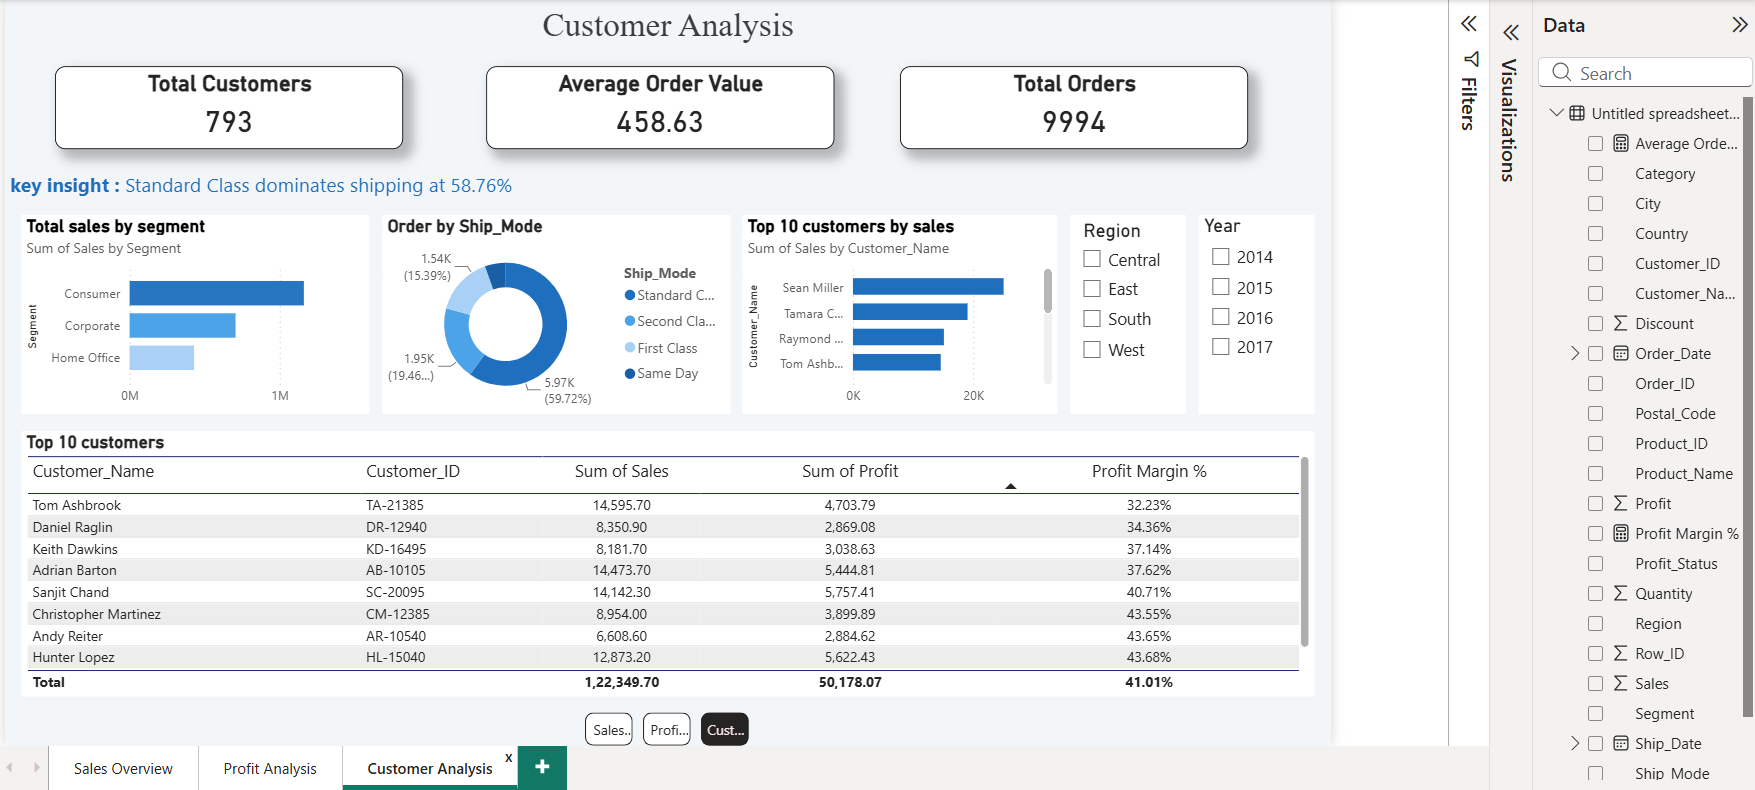

The dashboard page shown, as its layout file describes it:
{"tool":"powerbi","page":{"name":"Page 3","canvas":[1280,720],"ordinal":2},"visuals":[{"type":"slicer","title":"Year","fields":{"Values":["Untitled spreadsheet - Sample -.Order_Date.Variation.Date Hierarchy.Year"]},"box":[1152,208,112,192],"z":0},{"type":"slicer","fields":{"Values":["Untitled spreadsheet - Sample -.Region"]},"box":[1028,208,112,192],"z":1000},{"type":"card","title":"Total Orders","fields":{"Values":["CountNonNull(Untitled spreadsheet - Sample -.Order_ID)"]},"box":[864,64,336,80],"z":2000},{"type":"textbox","box":[0,0,1280,58.8],"z":3000},{"type":"card","title":"Total Customers","fields":{"Values":["Count(Untitled spreadsheet - Sample -.Customer_ID)"]},"box":[48,64,336,80],"z":4000},{"type":"card","title":"Average Order Value","fields":{"Values":["Untitled spreadsheet - Sample -.Average Order Value"]},"box":[464,64,336,80],"z":5000},{"type":"tableEx","title":"Top 10 customers","fields":{"Values":["Untitled spreadsheet - Sample -.Customer_Name","Untitled spreadsheet - Sample -.Customer_ID","Sum(Untitled spreadsheet - Sample -.Sales)","Sum(Untitled spreadsheet - Sample -.Profit)","Untitled spreadsheet - Sample -.Profit Margin %"]},"box":[16,416,1248,256],"z":6000},{"type":"barChart","title":"Total sales by segment","fields":{"Y":["Sum(Untitled spreadsheet - Sample -.Sales)"],"Category":["Untitled spreadsheet - Sample -.Segment"]},"box":[16,208,336,192],"z":7000},{"type":"donutChart","title":" Order by Ship_Mode","fields":{"Category":["Untitled spreadsheet - Sample -.Ship_Mode"],"Y":["CountNonNull(Untitled spreadsheet - Sample -.Order_ID)"]},"box":[364,208,336,192],"z":8000},{"type":"clusteredBarChart","title":"Top 10 customers by sales ","fields":{"Category":["Untitled spreadsheet - Sample -.Customer_Name"],"Y":["Sum(Untitled spreadsheet - Sample -.Sales)"]},"box":[712,208,304,192],"z":9000},{"type":"pageNavigator","box":[560,688,160,32],"z":10000},{"type":"textbox","box":[0,160,512,48],"z":10001}]}

Visuals, with their boxes on the page's 1280x720 design canvas (x1, y1, x2, y2). These are canvas units, not pixel positions in the 1755x790 screenshot, which may show the page scaled, cropped or inside an application window:
"Year" slicer: locate(1152, 208, 1264, 400)
slicer - Untitled spreadsheet - Sample -.Region: locate(1028, 208, 1140, 400)
"Total Orders" card: locate(864, 64, 1200, 144)
textbox: locate(0, 0, 1280, 59)
"Total Customers" card: locate(48, 64, 384, 144)
"Average Order Value" card: locate(464, 64, 800, 144)
"Top 10 customers" tableEx: locate(16, 416, 1264, 672)
"Total sales by segment" barChart: locate(16, 208, 352, 400)
" Order by Ship_Mode" donutChart: locate(364, 208, 700, 400)
"Top 10 customers by sales " clusteredBarChart: locate(712, 208, 1016, 400)
pageNavigator: locate(560, 688, 720, 720)
textbox: locate(0, 160, 512, 208)
